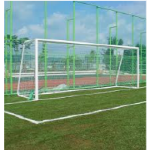goals: (13, 36, 142, 101)
